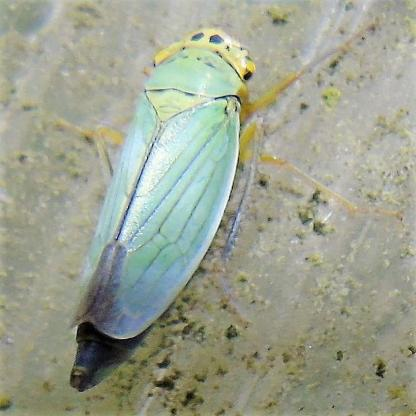Green-Leafhopper: (51, 22, 360, 393)
